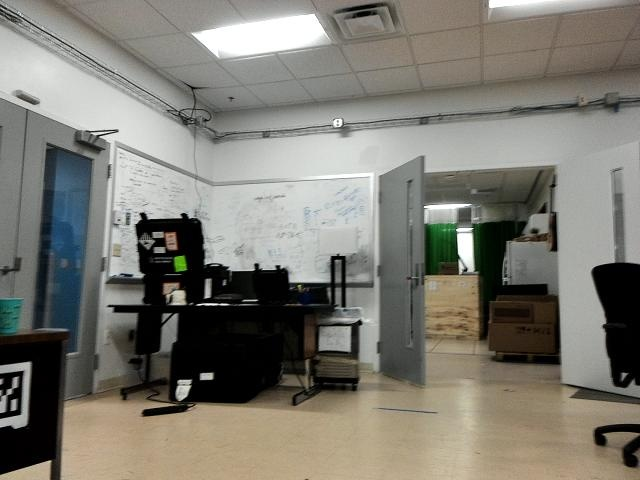coffee_cup: (1, 297, 25, 335)
